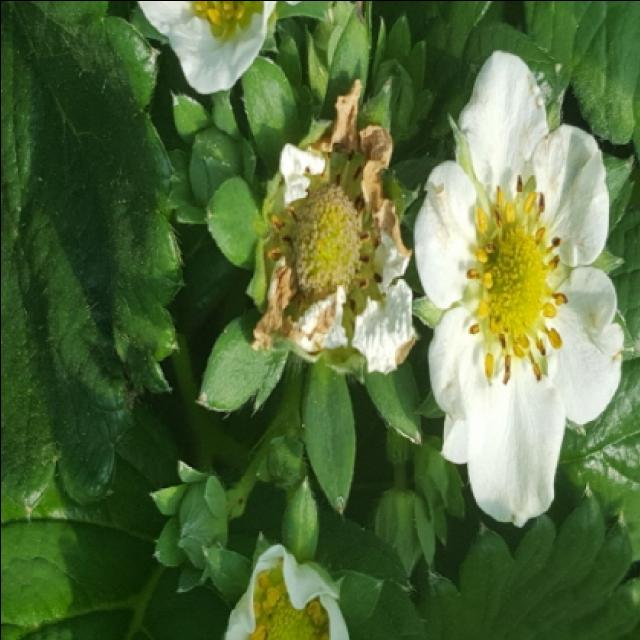Blossom Blight: (262, 143, 386, 333), (459, 173, 570, 385)
